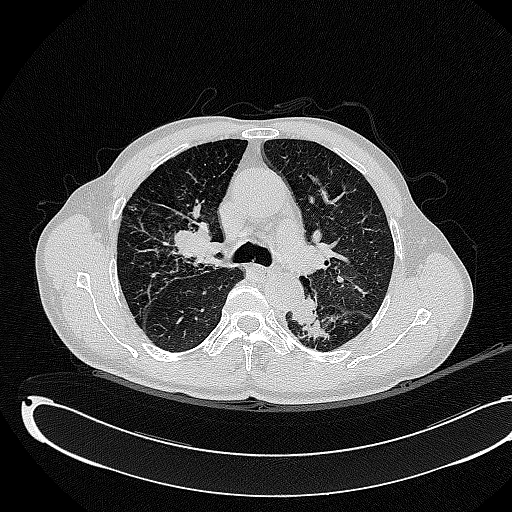nodule: (301, 319, 330, 338)
